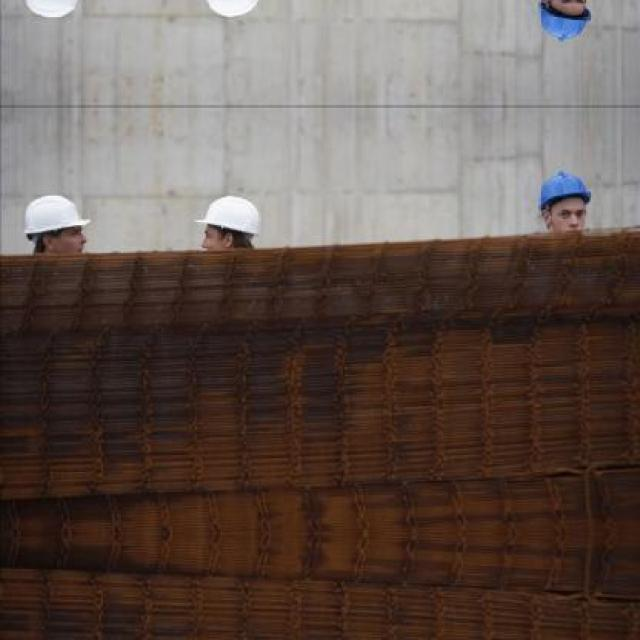helmet: (195, 185, 278, 244), (14, 181, 94, 242), (529, 166, 600, 218)
